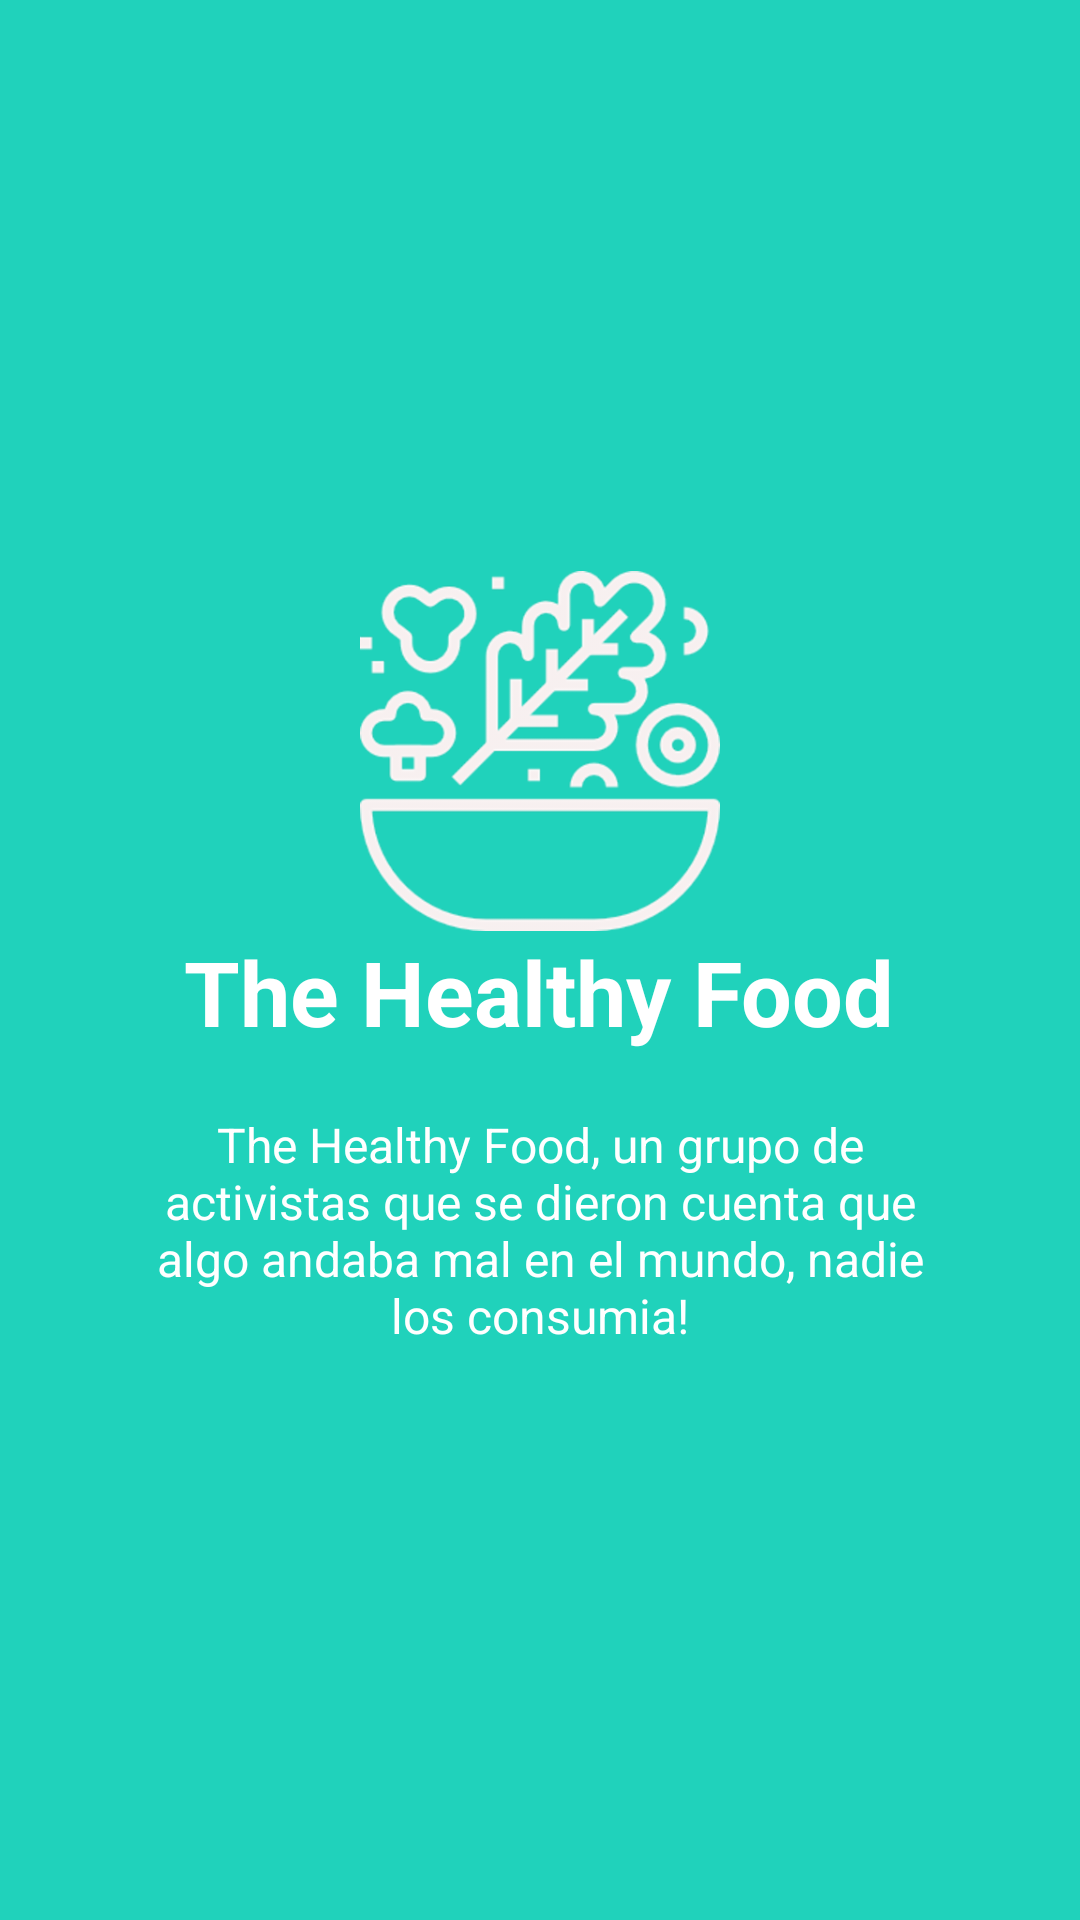

Icons on this 1080×1920 Android screen, each with the point to tap as (x,y):
ensalada: (540,751)
